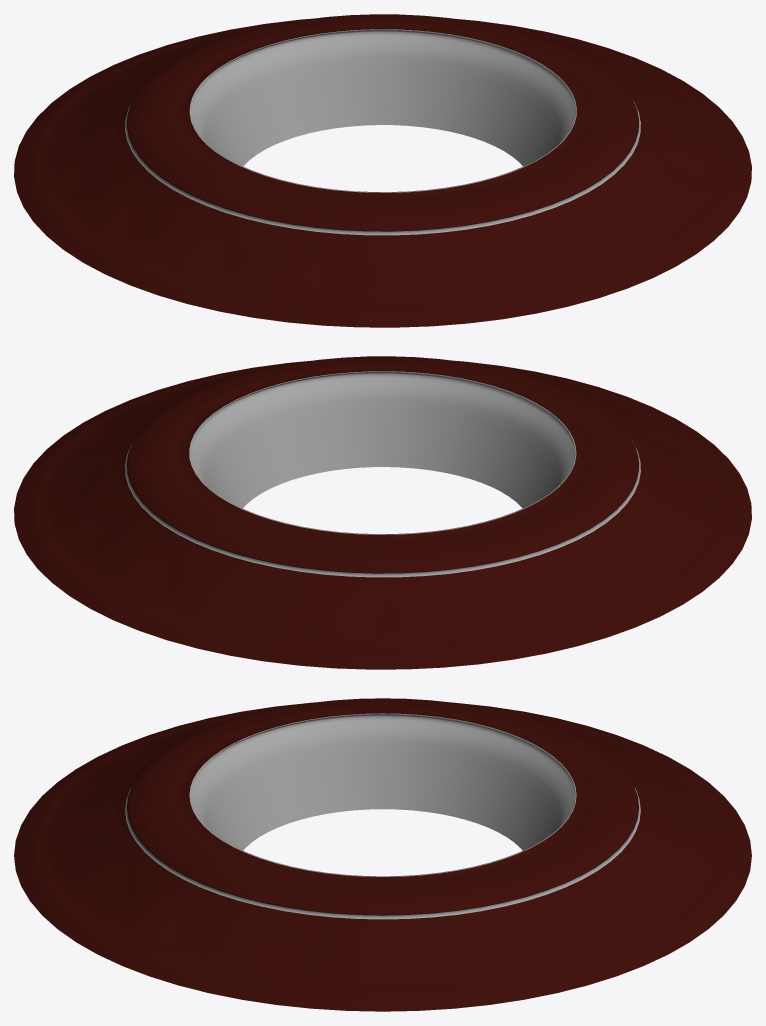
The model's file is Enchufe.fbx.
The picture shows the model from 3 angles, top to bottom: view 1: azimuth 30°, elevation 25°; view 2: azimuth 150°, elevation 25°; view 3: azimuth 270°, elevation 25°; orthographic projection.
Visible parts, largest first — view 1: Circle; view 2: Circle; view 3: Circle.
Boxes of the visible parts, x1,y1,x2,y2 form: Circle: [14, 14, 751, 327]; Circle: [14, 356, 751, 669]; Circle: [14, 698, 751, 1011].
Bounding box in the file's own units: 404 × 46.51 × 404.
